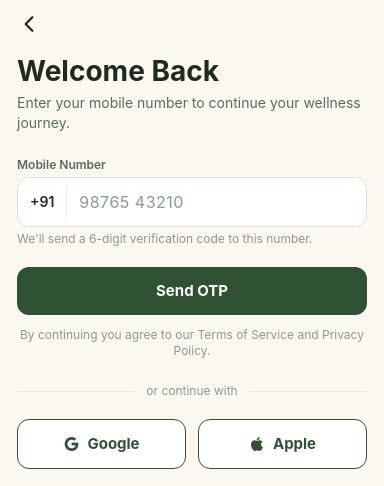
Test case: LoginScreen › strips non-digits and caps input at 10 digits as the user types
Type "abc98765432109xyz" into the field named "Mobile number" at point(217, 202), box [79,178,354,226]
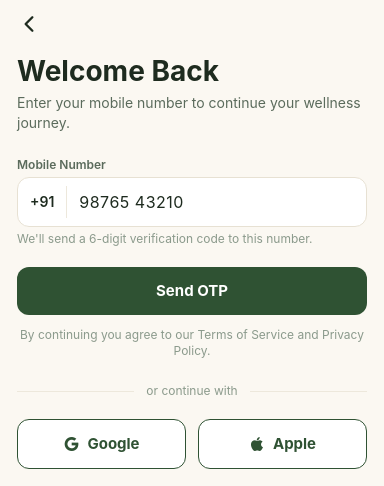
Expected: the field named "Mobile number" holds "98765 43210", [79,178,354,226]
